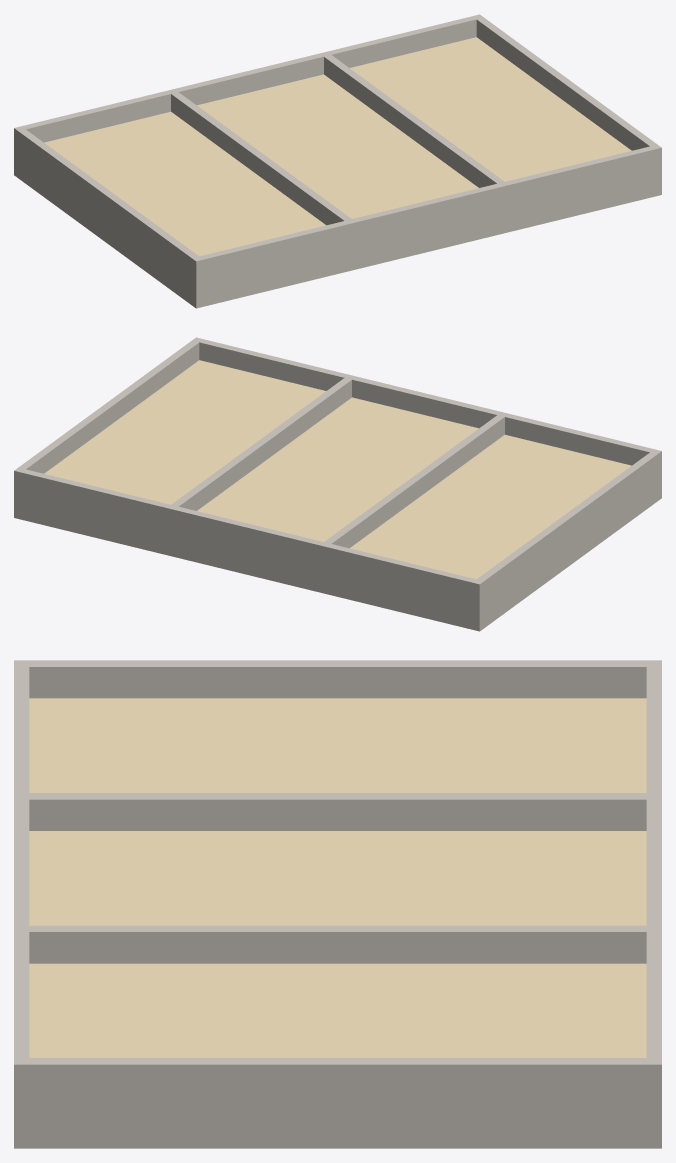
The picture shows the model from 3 angles, top to bottom: view 1: azimuth 30°, elevation 25°; view 2: azimuth 150°, elevation 25°; view 3: azimuth 270°, elevation 25°; orthographic projection. The views are drawn at different scales.
Visible parts, largest first — view 1: comun_lecho_secado__arena_grava__arena, comun_lecho_secado__arena_grava__cuerpo; view 2: comun_lecho_secado__arena_grava__arena, comun_lecho_secado__arena_grava__cuerpo; view 3: comun_lecho_secado__arena_grava__arena, comun_lecho_secado__arena_grava__cuerpo.
Part boxes in pixels (left/top/right/bottom): comun_lecho_secado__arena_grava__arena: left=44, top=37, right=631, bottom=256; comun_lecho_secado__arena_grava__cuerpo: left=14, top=14, right=661, bottom=308; comun_lecho_secado__arena_grava__arena: left=44, top=360, right=631, bottom=579; comun_lecho_secado__arena_grava__cuerpo: left=14, top=337, right=661, bottom=631; comun_lecho_secado__arena_grava__arena: left=29, top=698, right=646, bottom=1057; comun_lecho_secado__arena_grava__cuerpo: left=14, top=660, right=661, bottom=1148.
Bounding box in the file's own units: 12.4 × 1.2 × 8.4.
